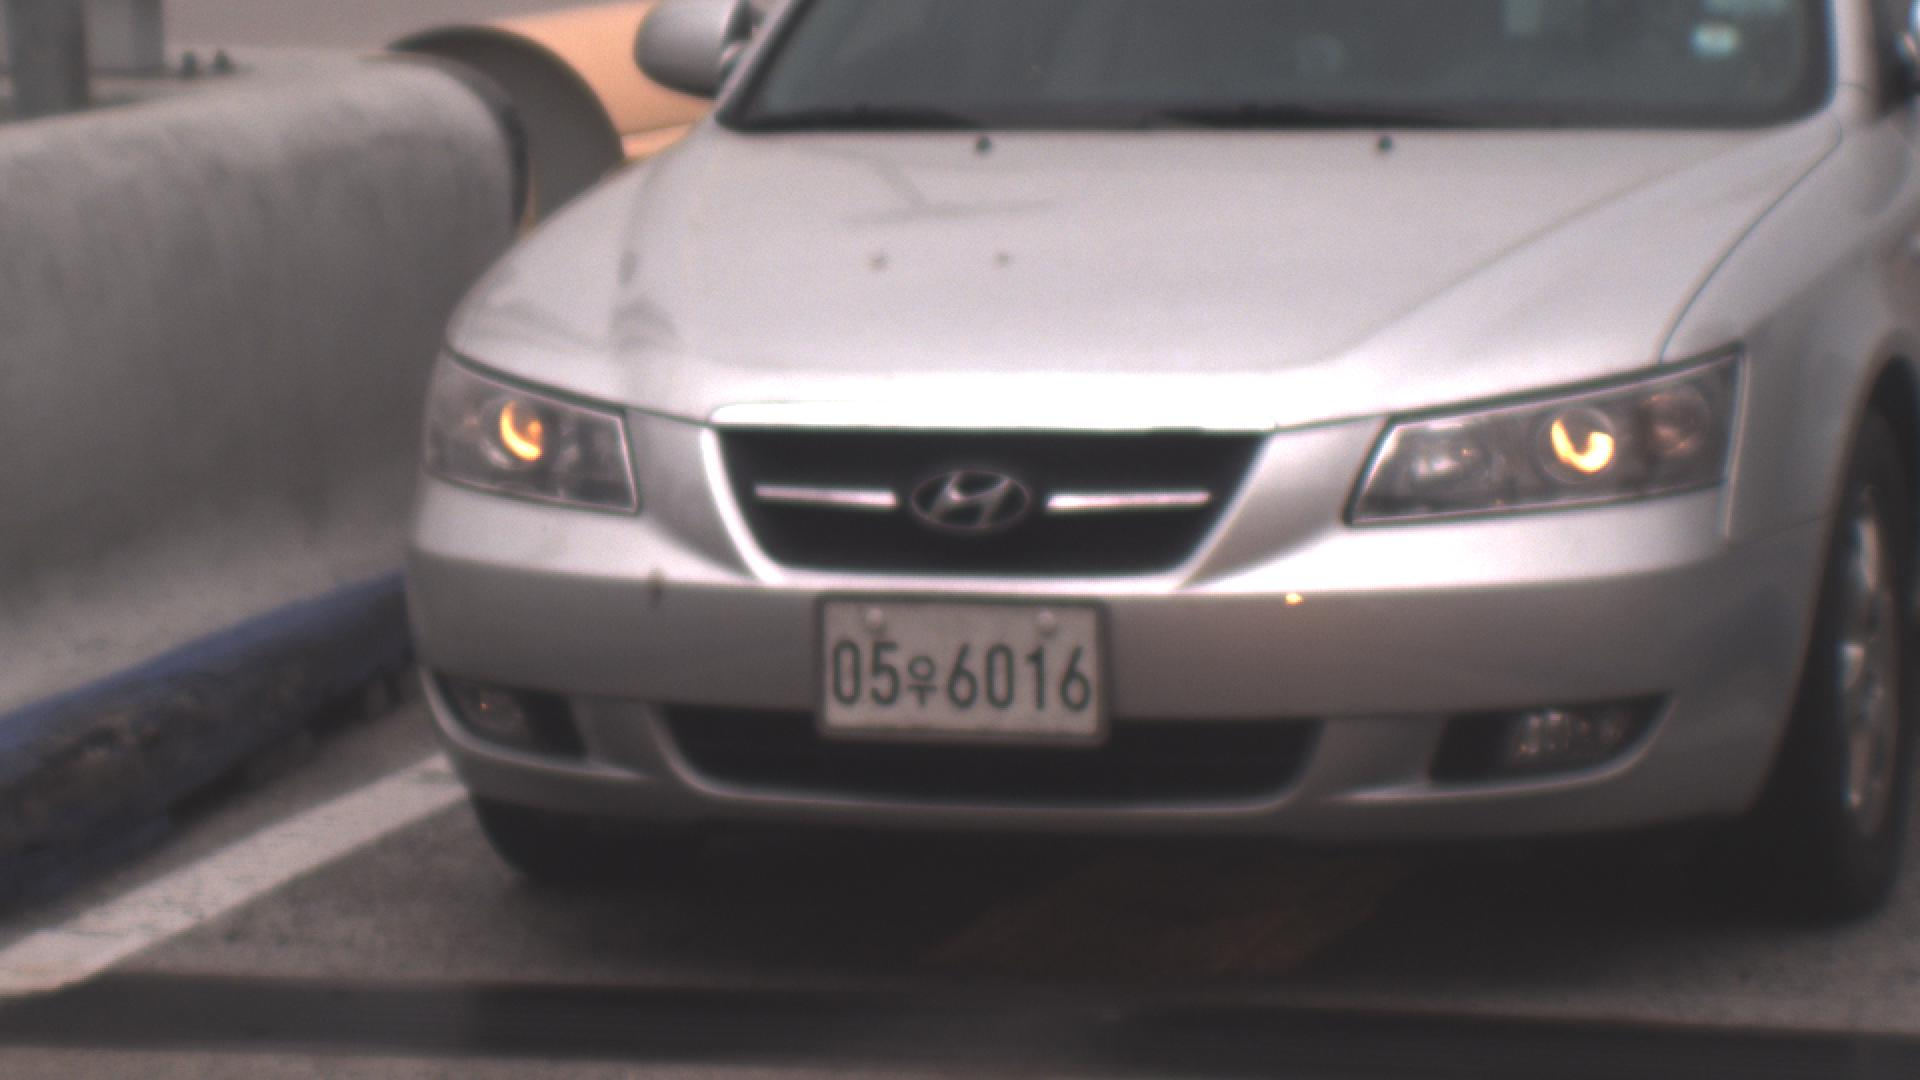car: (402, 1, 1920, 924)
plate: (807, 586, 1122, 754)
